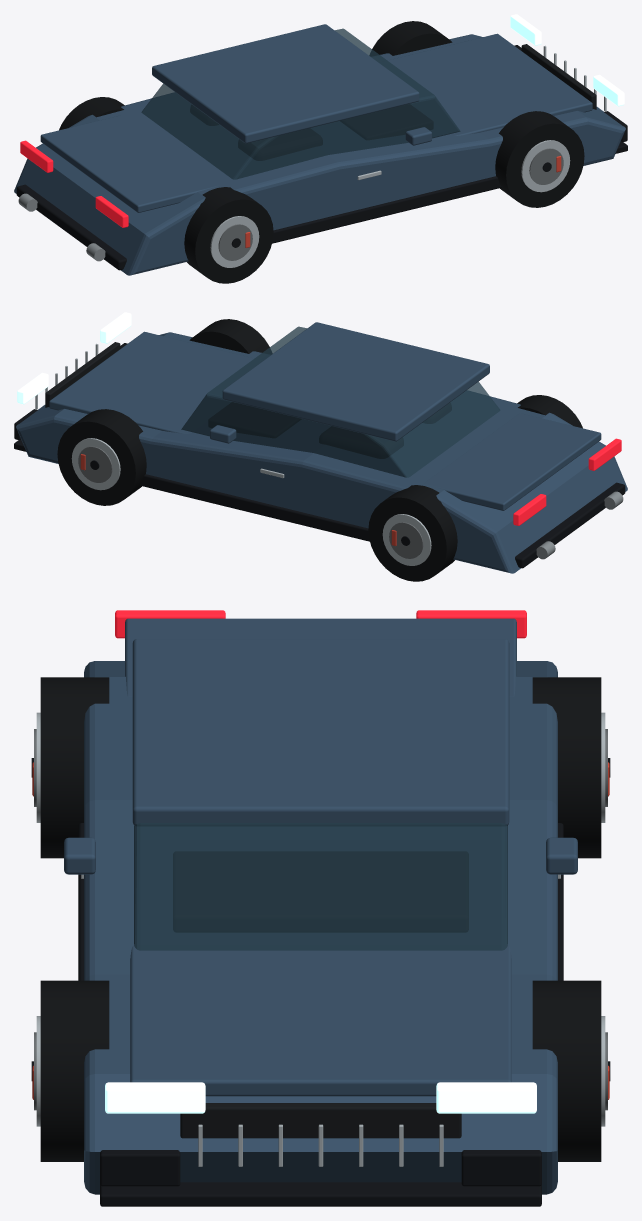
The model's file is lambo_murcielago.glb.
3 renders of one model, top to bottom at view 1: azimuth 30°, elevation 25°; view 2: azimuth 150°, elevation 25°; view 3: azimuth 270°, elevation 25°, orthographic. The views are drawn at different scales.
Visible parts, largest first — view 1: sculpted_body, roof, hood_center, glasshouse, rear_deck, front_right_wheel_tire, rear_right_wheel_tire, side_skirt_1, dashboard, front_left_wheel_tire, rear_diffuser, seat_1 (+11 smaller); view 2: sculpted_body, roof, hood_center, glasshouse, rear_deck, front_left_wheel_tire, rear_left_wheel_tire, side_skirt_-1, dashboard, front_right_wheel_tire, rear_diffuser, seat_-1 (+11 smaller); view 3: sculpted_body, roof, hood_center, glasshouse, dashboard, front_splitter, front_left_wheel_tire, front_right_wheel_tire, front_grille, rear_deck, rear_left_wheel_tire, rear_right_wheel_tire (+8 smaller).
Boxes of the visible parts, <box> form: sculpted_body: <box>14,34,625,275</box>; roof: <box>152,24,419,143</box>; hood_center: <box>380,33,592,135</box>; glasshouse: <box>141,28,460,179</box>; rear_deck: <box>40,115,218,212</box>; front_right_wheel_tire: <box>495,111,584,207</box>; rear_right_wheel_tire: <box>184,187,273,283</box>; side_skirt_1: <box>272,176,501,243</box>; dashboard: <box>341,104,432,139</box>; front_left_wheel_tire: <box>370,21,452,55</box>; rear_diffuser: <box>16,184,126,270</box>; seat_1: <box>238,128,322,160</box>; sculpted_body: <box>16,332,627,573</box>; roof: <box>222,322,489,441</box>; hood_center: <box>49,331,261,433</box>; glasshouse: <box>181,326,500,477</box>; rear_deck: <box>423,413,601,510</box>; front_left_wheel_tire: <box>57,409,146,505</box>; rear_left_wheel_tire: <box>368,485,457,581</box>; side_skirt_-1: <box>140,474,369,541</box>; dashboard: <box>209,402,300,437</box>; front_right_wheel_tire: <box>189,319,271,353</box>; rear_diffuser: <box>515,482,625,568</box>; seat_-1: <box>319,426,403,458</box>; sculpted_body: <box>84,661,557,1194</box>; roof: <box>132,639,509,825</box>; hood_center: <box>130,945,511,1096</box>; glasshouse: <box>134,823,507,950</box>; dashboard: <box>173,852,468,931</box>; front_splitter: <box>100,1182,541,1206</box>; front_left_wheel_tire: <box>532,980,601,1161</box>; front_right_wheel_tire: <box>40,980,109,1161</box>; front_grille: <box>180,1103,461,1138</box>; rear_deck: <box>125,618,516,696</box>; rear_left_wheel_tire: <box>532,677,601,858</box>; rear_right_wheel_tire: <box>40,677,109,858</box>.
Bounding box in the file's own units: 4.9 × 1.11 × 2.36.
